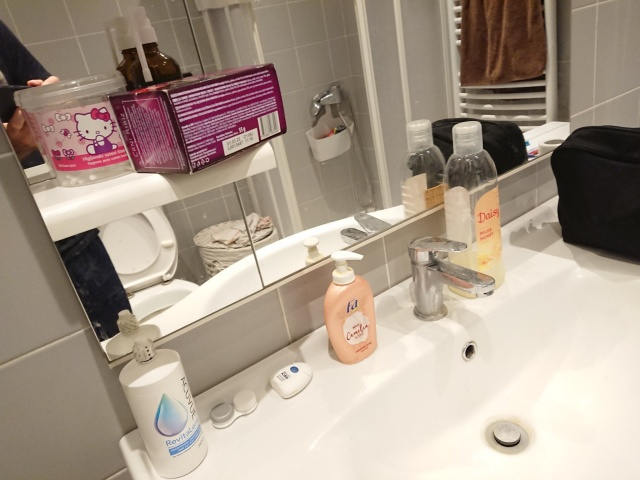Franck Black Currant Tea 60g: (104, 59, 290, 177)
